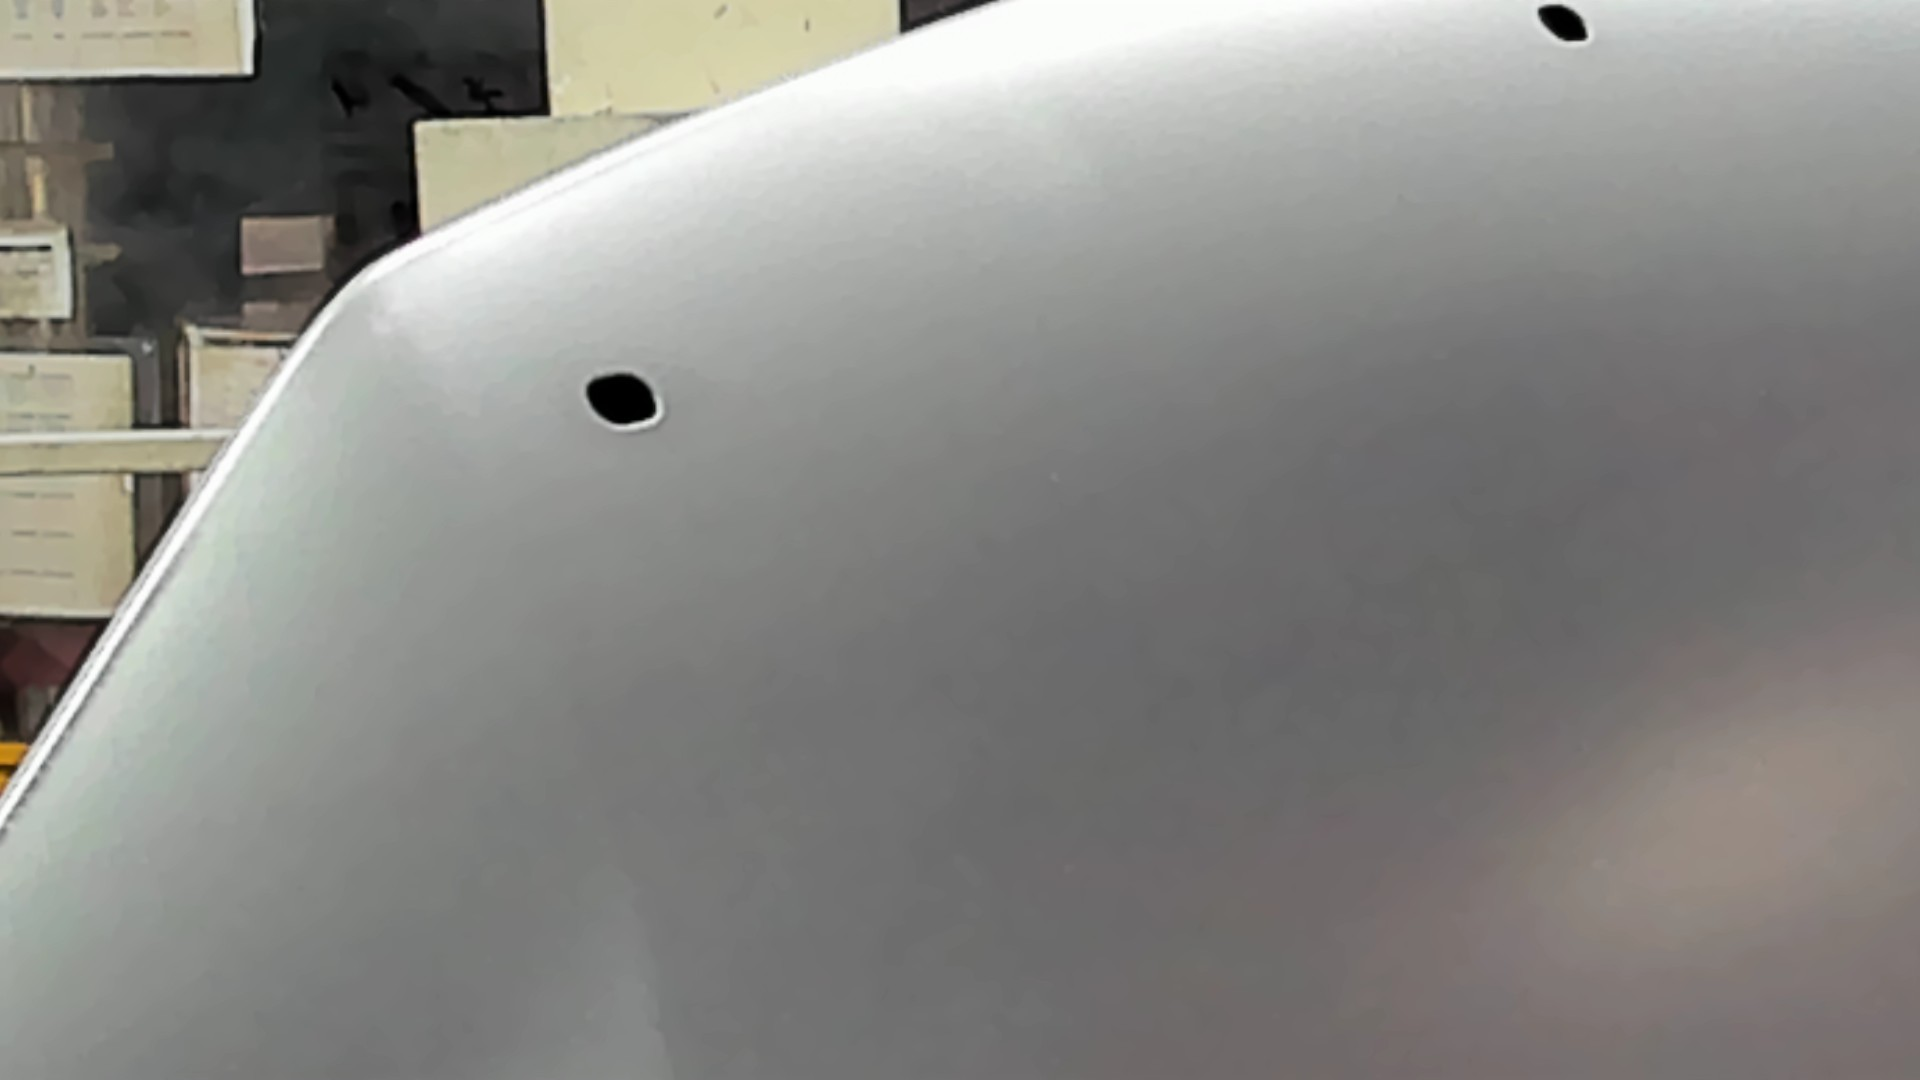amorfo: (578, 365, 669, 431), (1532, 1, 1600, 51)
